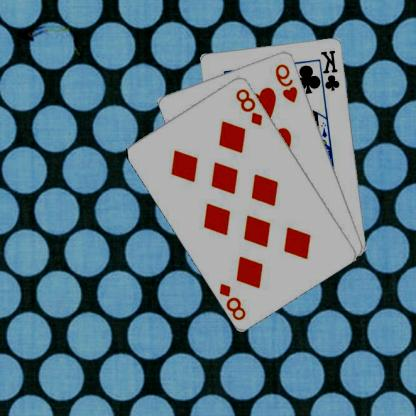8D: (218, 280, 250, 322), (235, 85, 266, 127)
9H: (275, 60, 301, 104)
KC: (317, 47, 343, 97)
